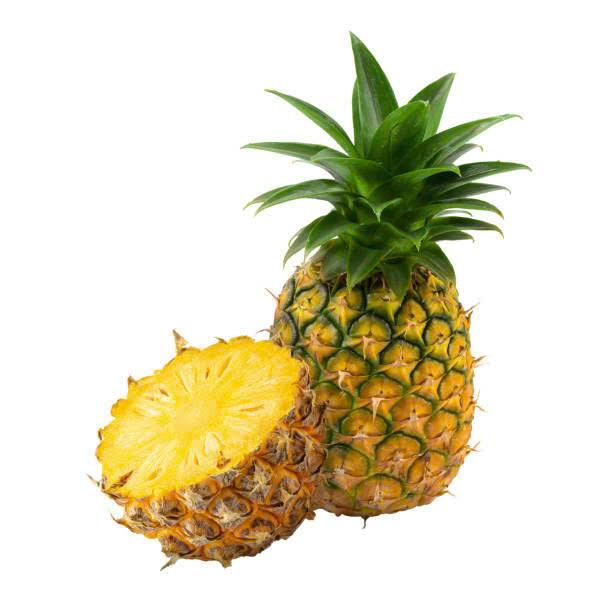pineapple: (248, 21, 498, 526), (91, 331, 327, 572)
